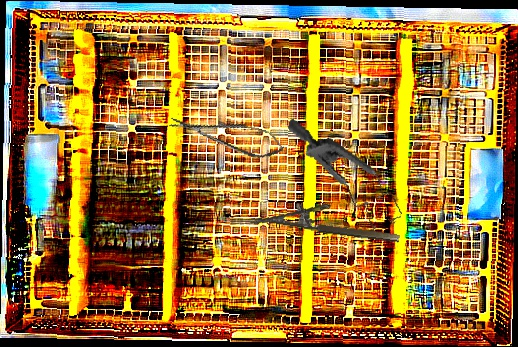Micro Scissor: (167, 104, 287, 165)
Needle Holder: (250, 194, 403, 244)
Speculum: (267, 118, 418, 242)
